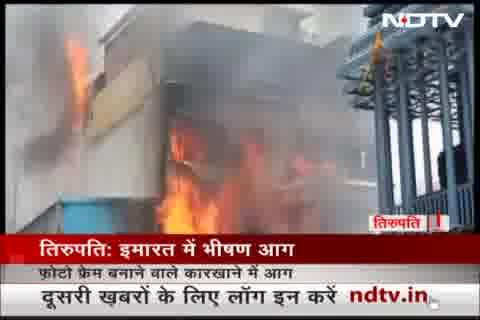fire: (164, 175, 220, 235)
smoke: (193, 31, 344, 171), (225, 177, 352, 230)
